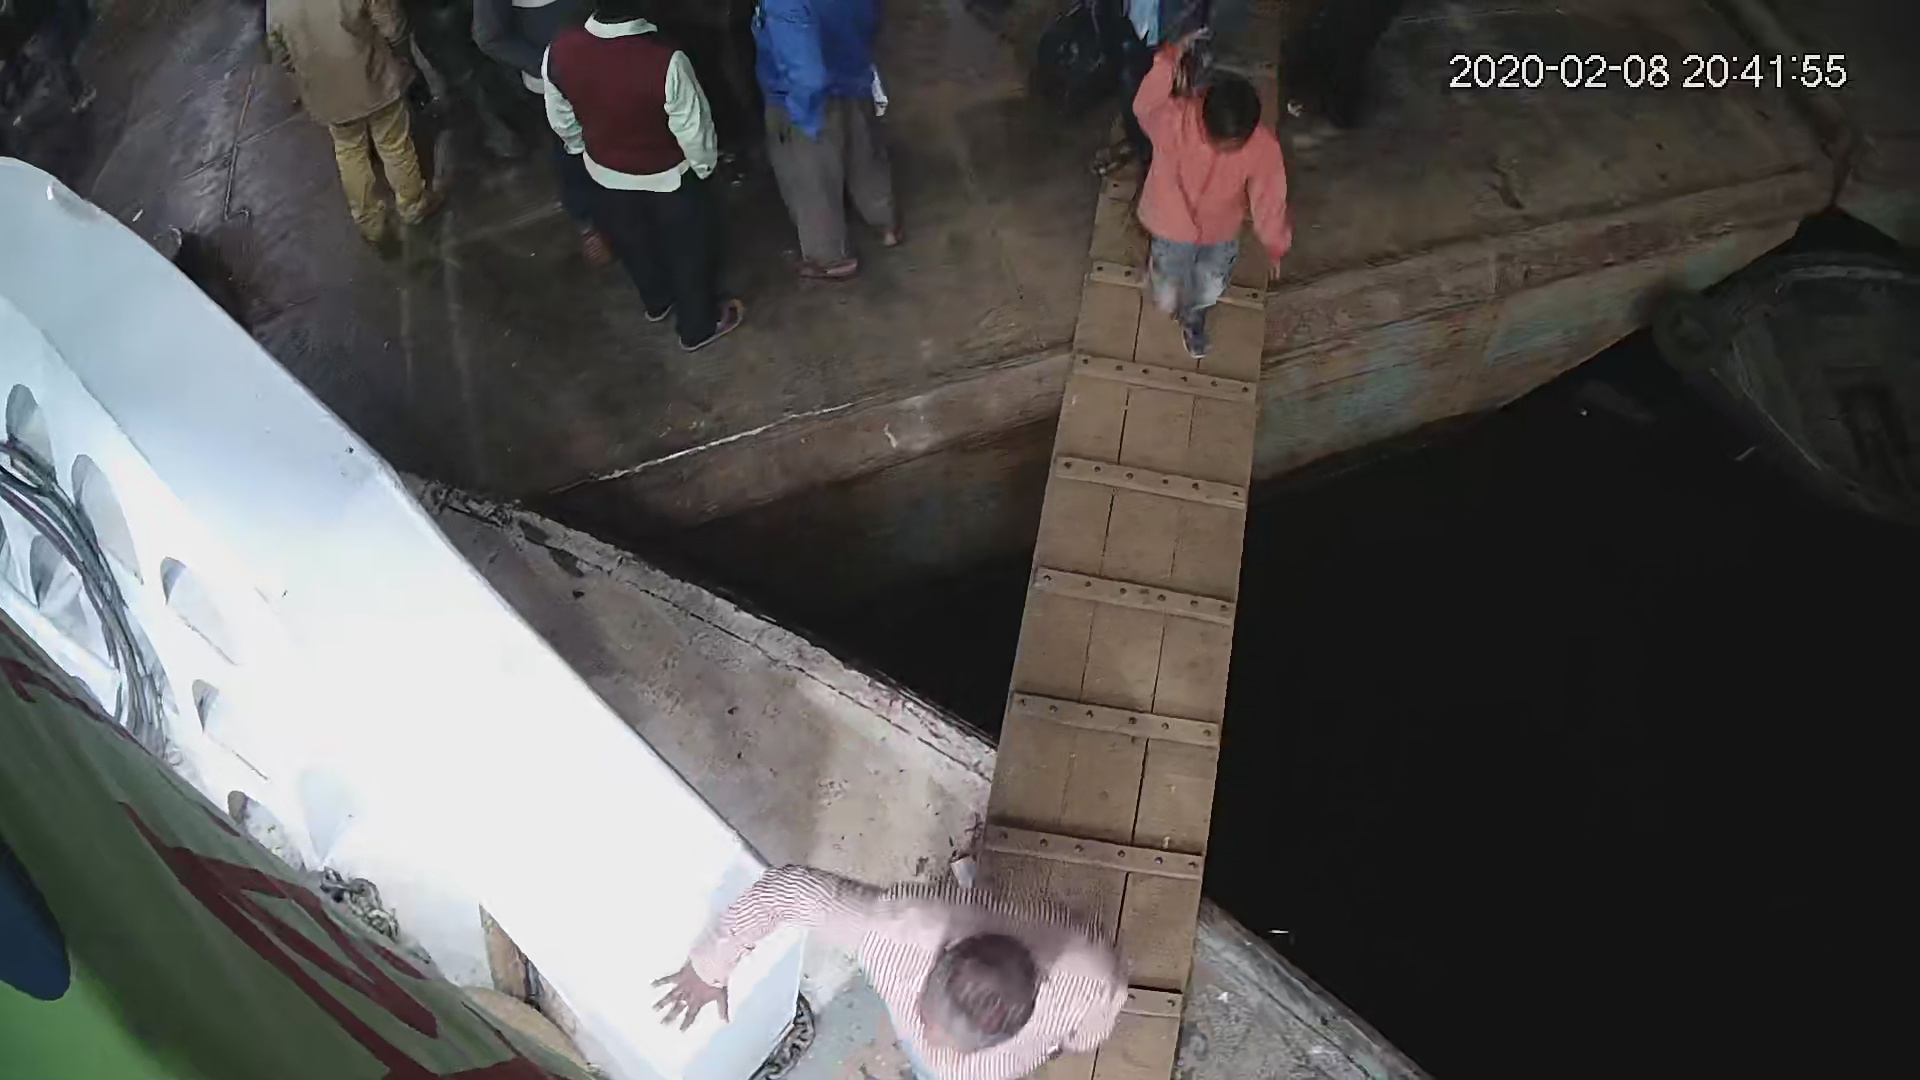person: (536, 13, 750, 359), (823, 863, 1125, 1078), (1125, 53, 1292, 361), (260, 1, 446, 255), (746, 1, 908, 291)
